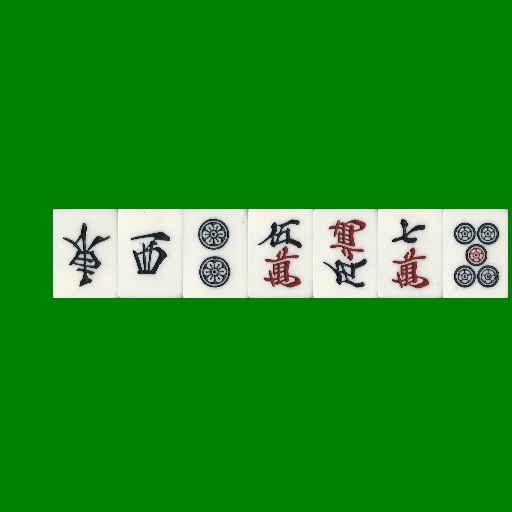2p: (183, 209, 248, 298)
5m: (248, 209, 313, 298), (313, 209, 378, 298)
5p: (443, 209, 508, 298)
7m: (378, 209, 443, 298)
east: (53, 209, 118, 298)
west: (118, 209, 183, 298)
